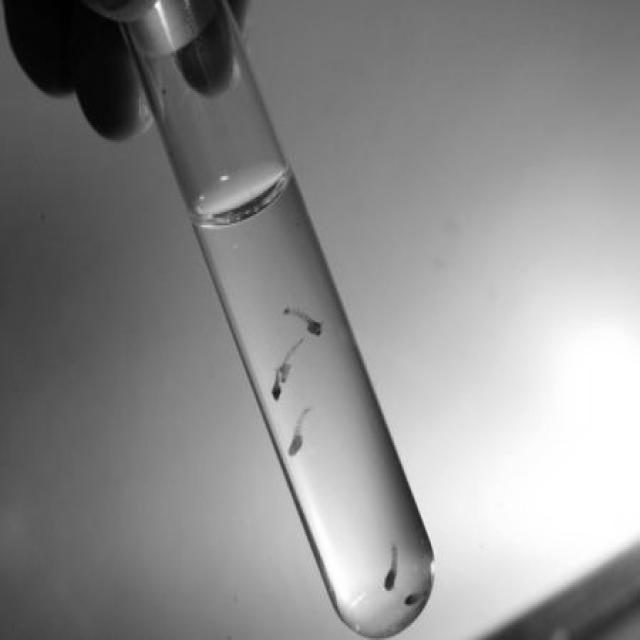larvas: (283, 308, 321, 337), (291, 402, 310, 456), (382, 546, 400, 588), (270, 364, 292, 397), (281, 341, 304, 367), (404, 586, 429, 606)
